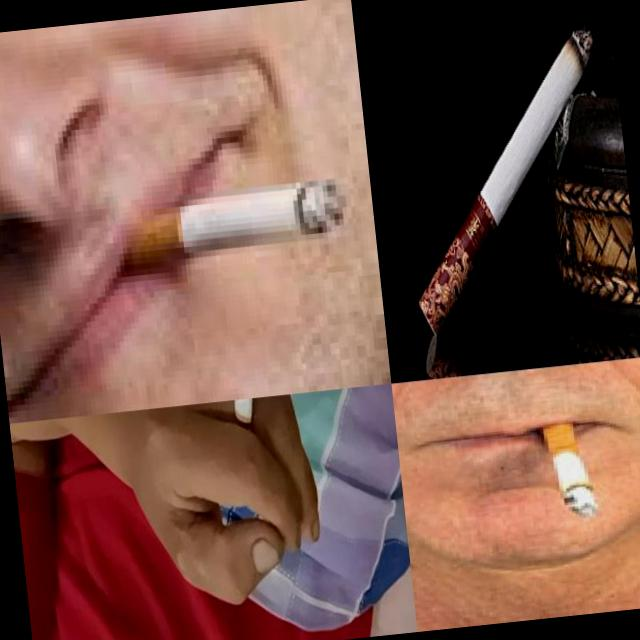cigarette: (390, 20, 624, 341), (112, 171, 354, 273), (542, 414, 598, 518), (228, 397, 268, 453)
